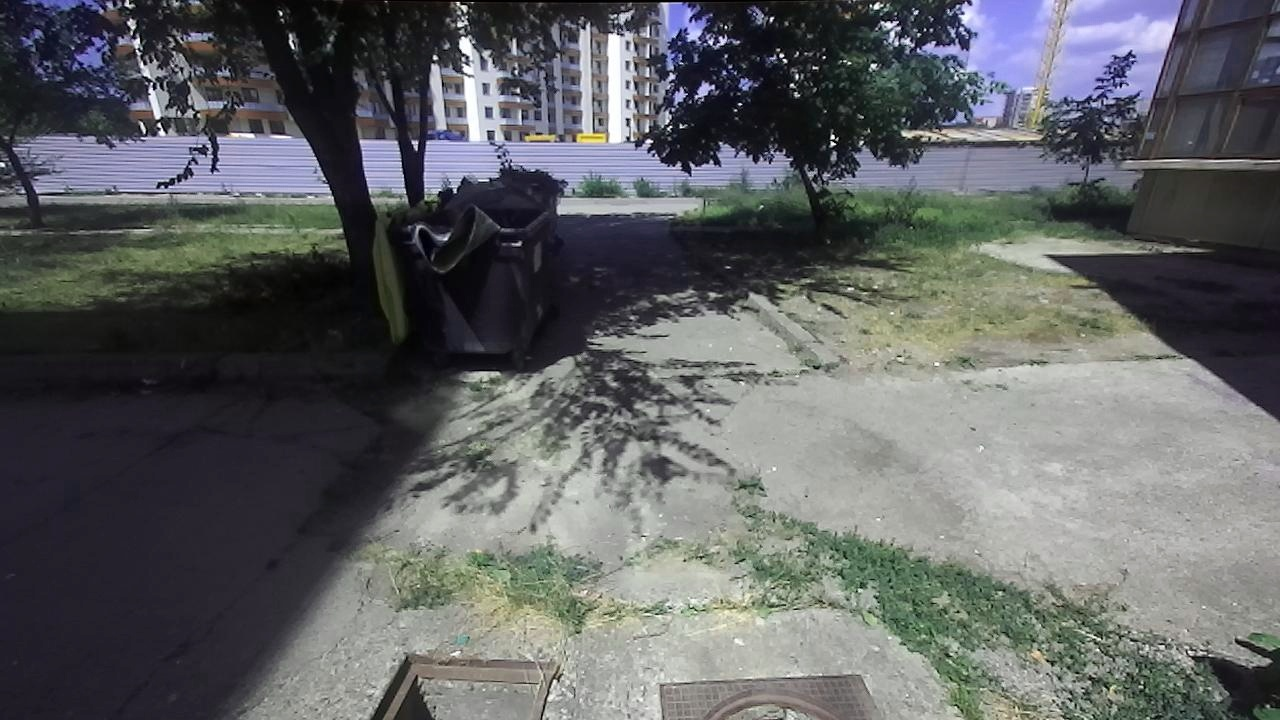drain: (359, 650, 562, 718), (697, 686, 856, 718)
